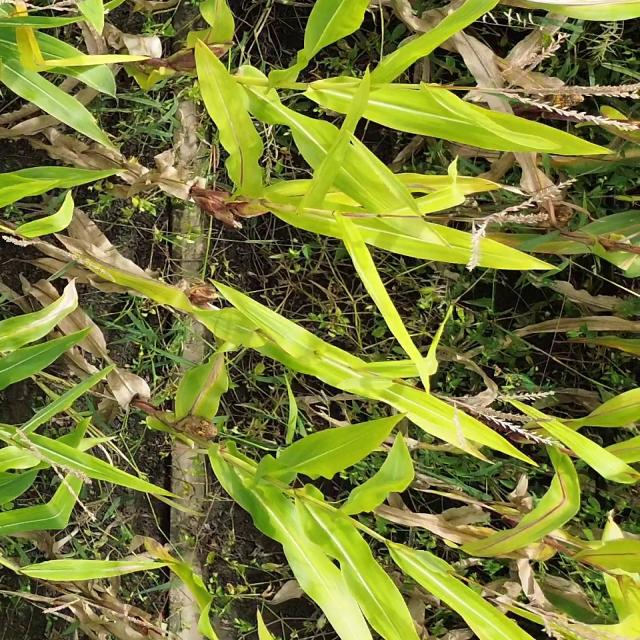northern-leaf-blight: (0, 279, 83, 381), (476, 474, 570, 564), (134, 530, 210, 610), (176, 345, 234, 419)
